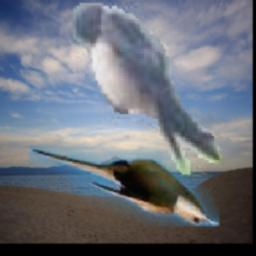Cuckoo: (30, 148, 221, 227)
Swallow: (73, 4, 222, 177)
